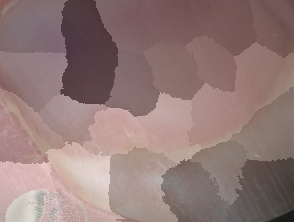Nail_psoriasis: (1, 91, 284, 213)
